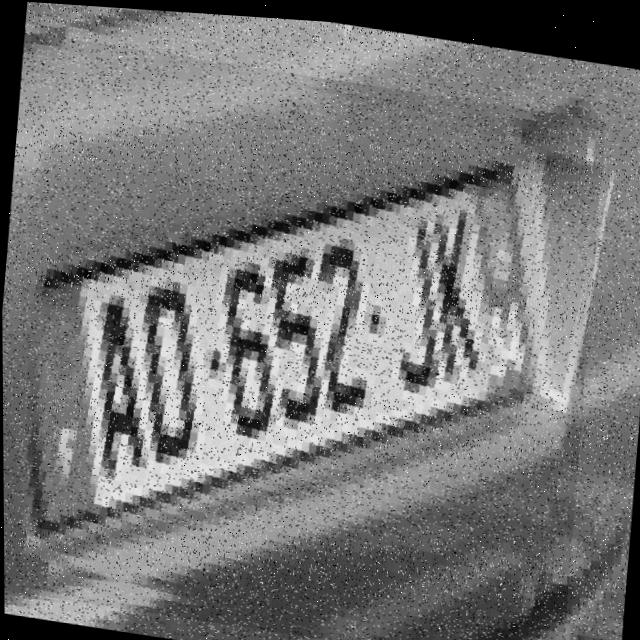LicensePlate: (0, 30, 609, 640)
